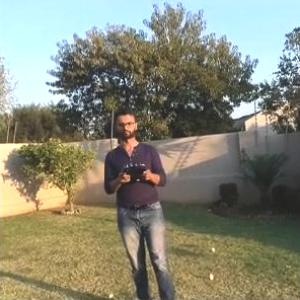follow: (102, 102, 180, 299)
